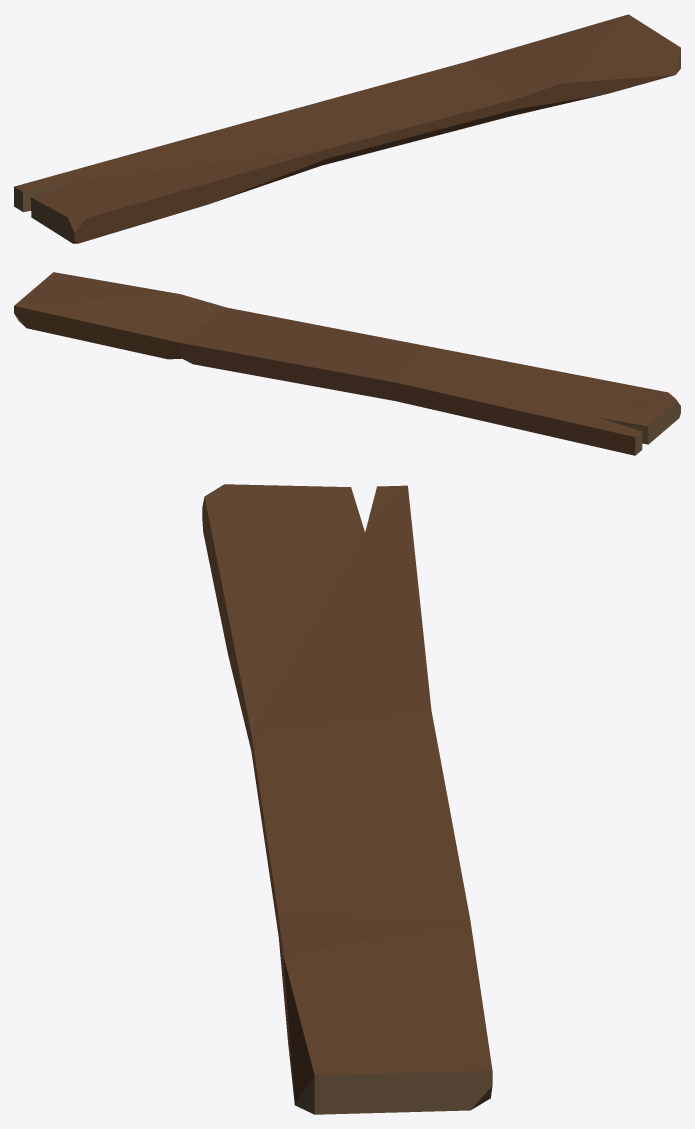
3 renders of one model, top to bottom at view 1: azimuth 30°, elevation 25°; view 2: azimuth 150°, elevation 25°; view 3: azimuth 270°, elevation 25°, orthographic. The views are drawn at different scales.
Visible parts, largest first — view 1: mff_prop_wood_plank_0; view 2: mff_prop_wood_plank_0; view 3: mff_prop_wood_plank_0.
Part boxes in pixels (x1,y1,x2,y2): mff_prop_wood_plank_0: [14, 14, 680, 243]; mff_prop_wood_plank_0: [14, 272, 680, 455]; mff_prop_wood_plank_0: [202, 484, 492, 1114].
Bounding box in the file's own units: 5.01 × 0.1895 × 1.04.
Materials: 1 (1 with a texture image).
